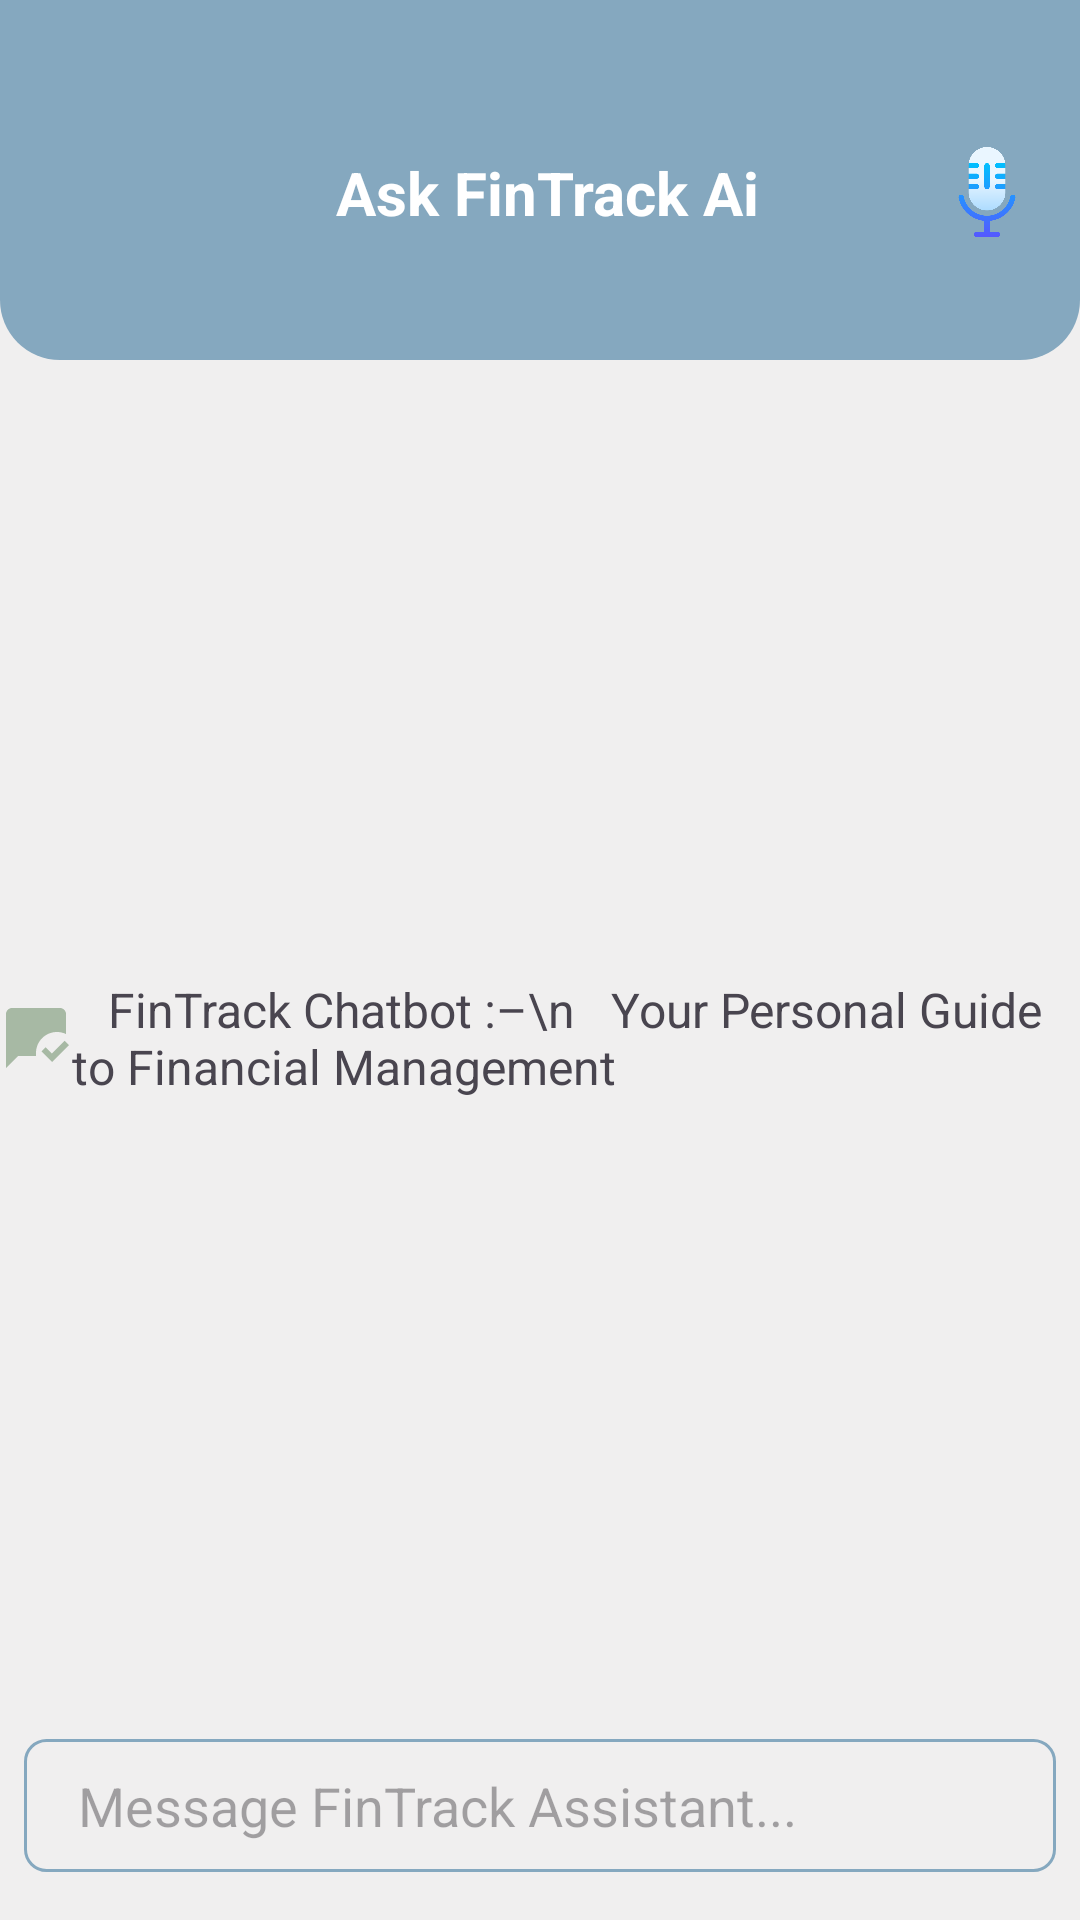

Icon click points for this 1080px×1920px phone screenshot, format (x=x, y=y):
mic: (x=987, y=192)
